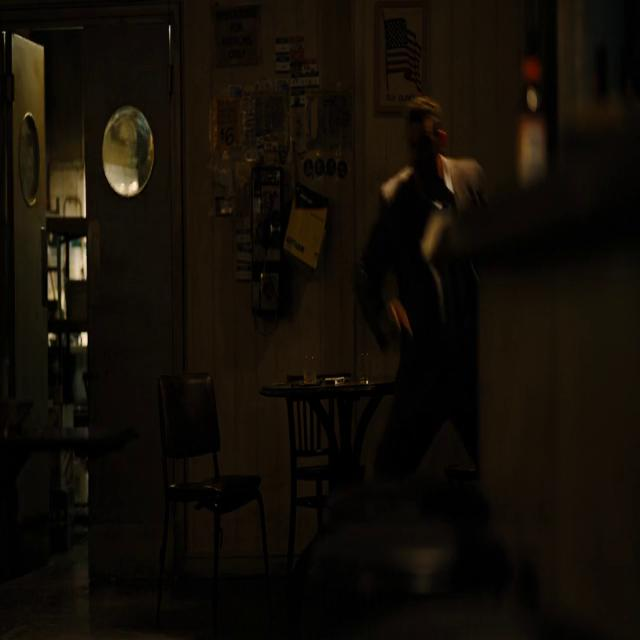People: (364, 73, 474, 512)
Table: (277, 362, 400, 567)
chair: (155, 352, 270, 608), (270, 321, 355, 523)
